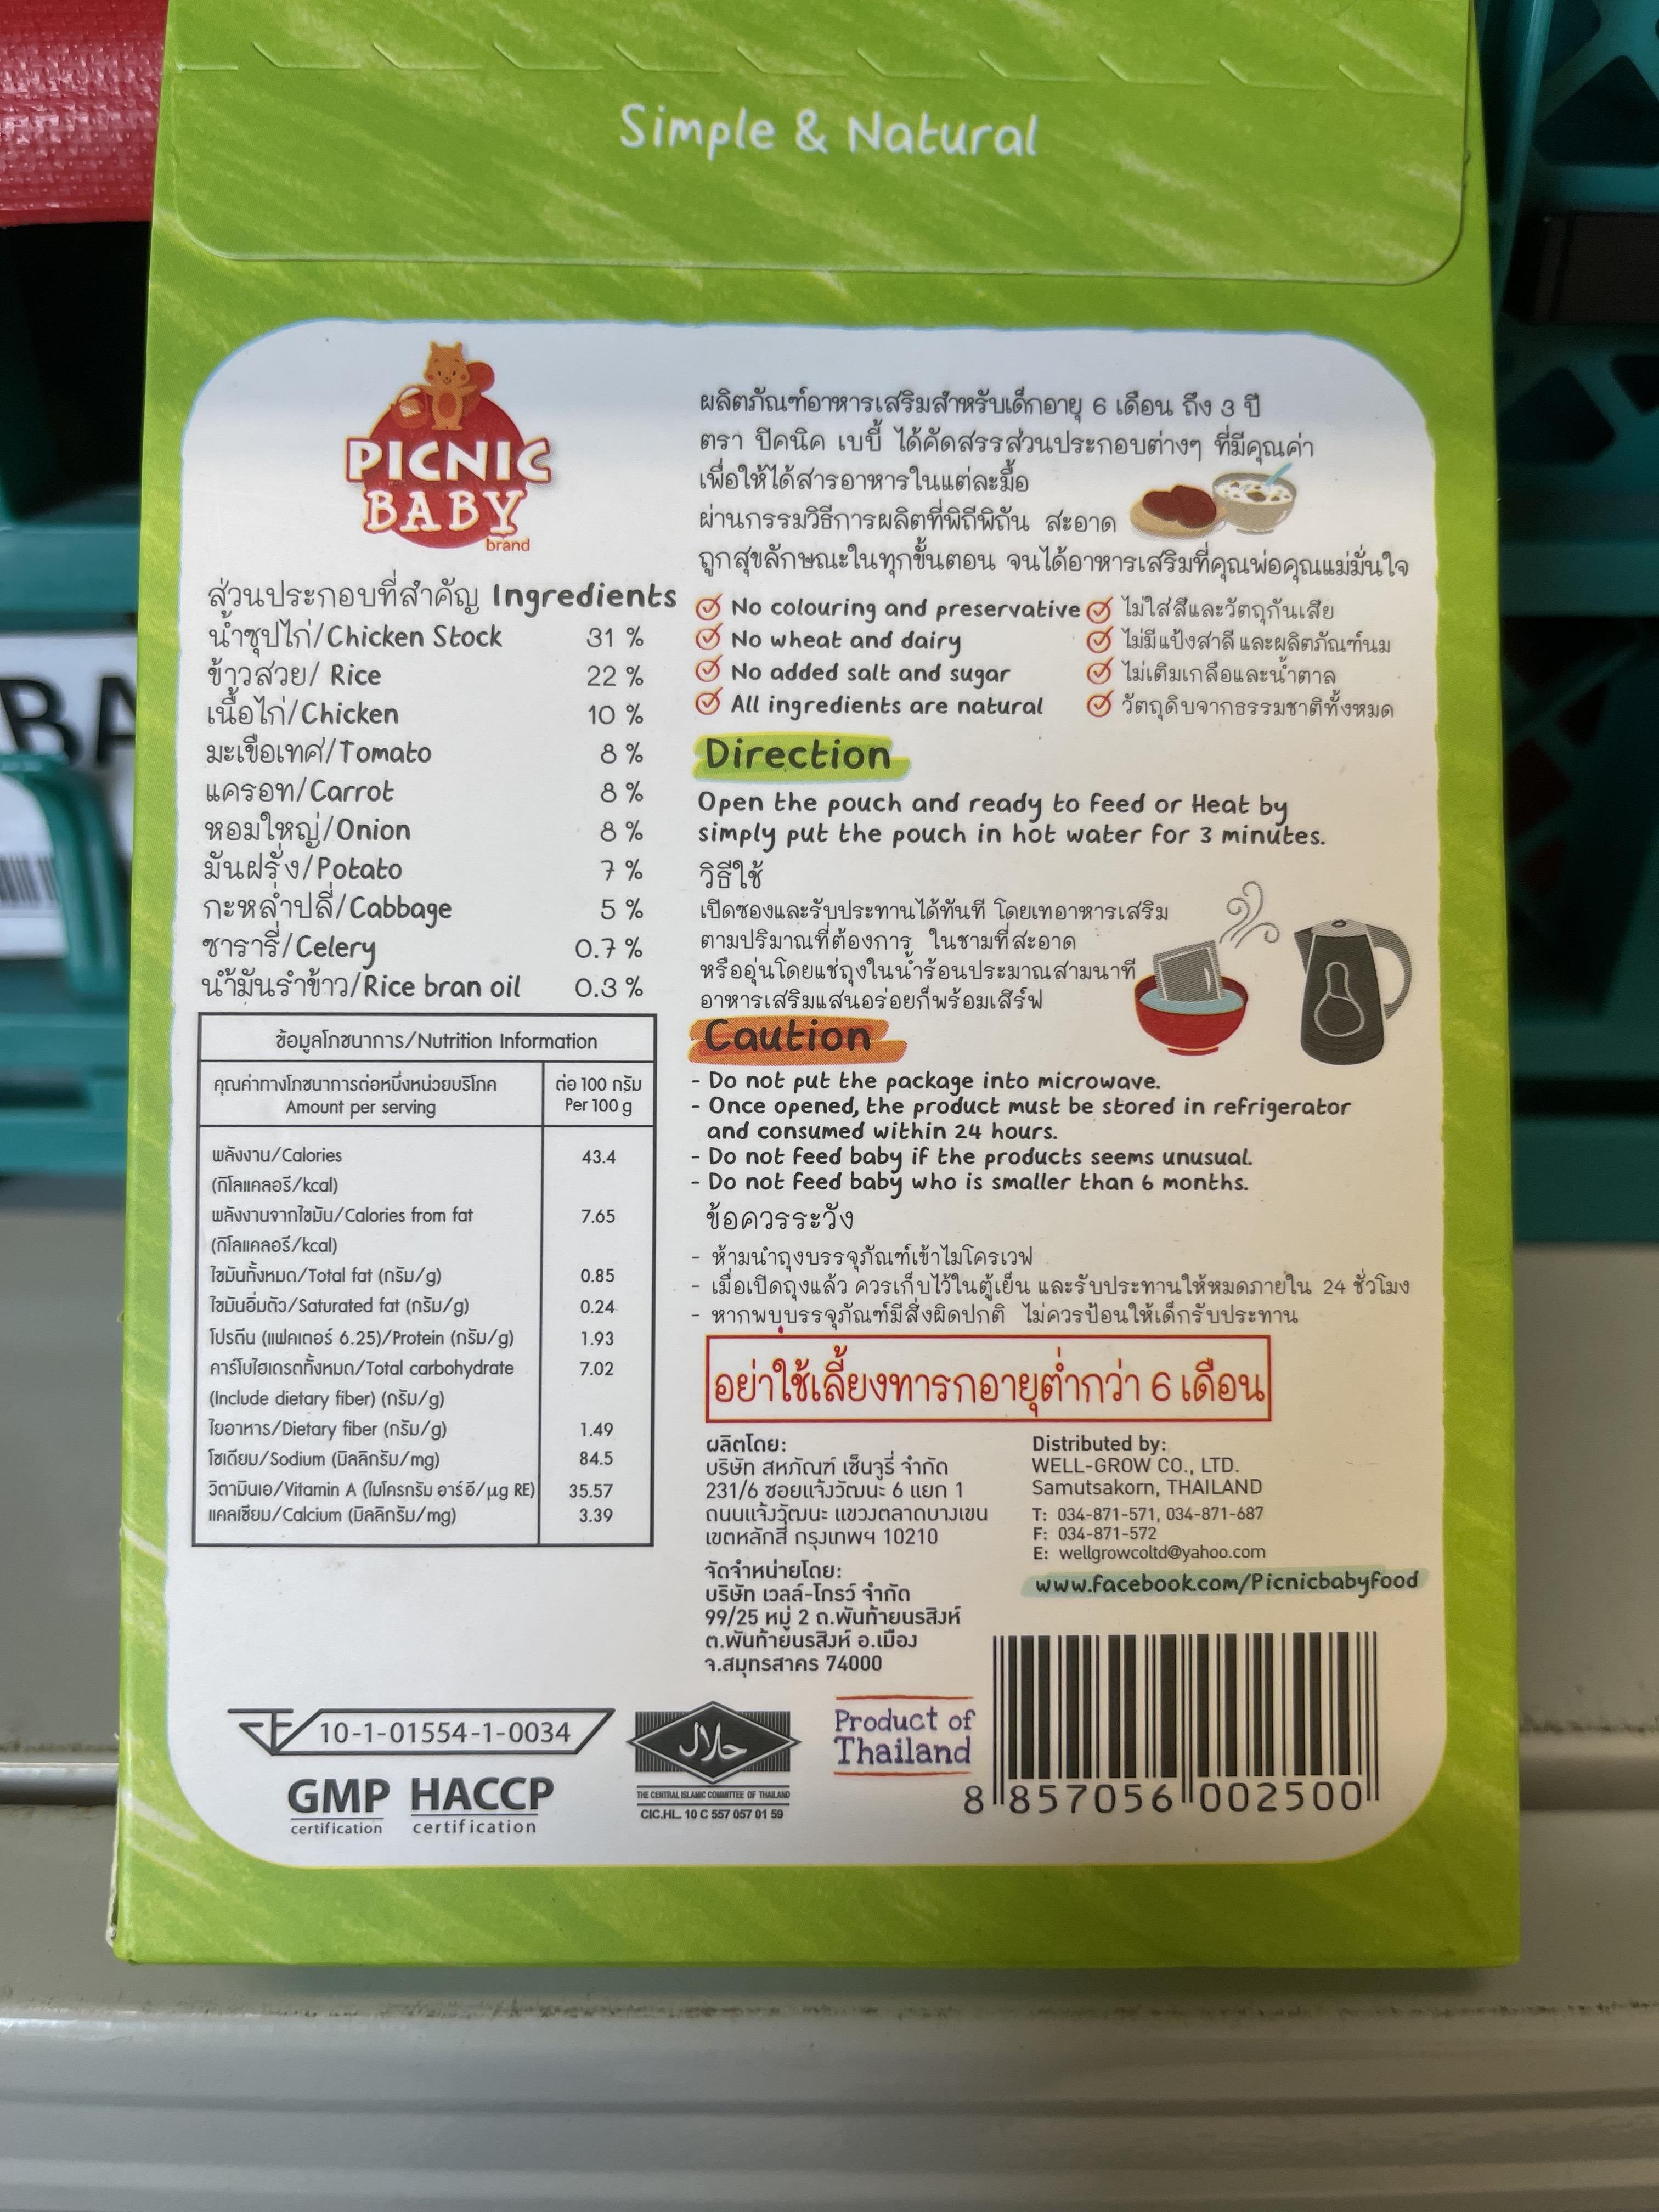object_name: (176, 30, 1497, 1944)
